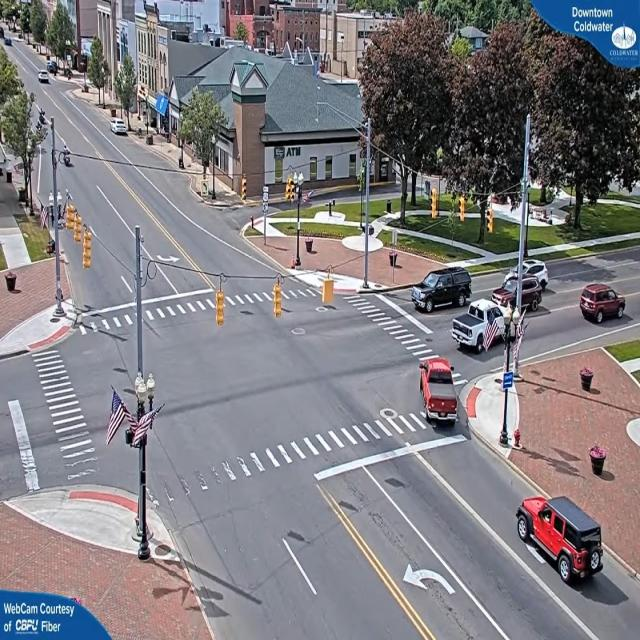car: (518, 496, 608, 588), (451, 298, 511, 354), (414, 266, 473, 314), (418, 358, 458, 423), (580, 284, 627, 325), (525, 261, 550, 291), (112, 121, 131, 138), (40, 70, 52, 83)
